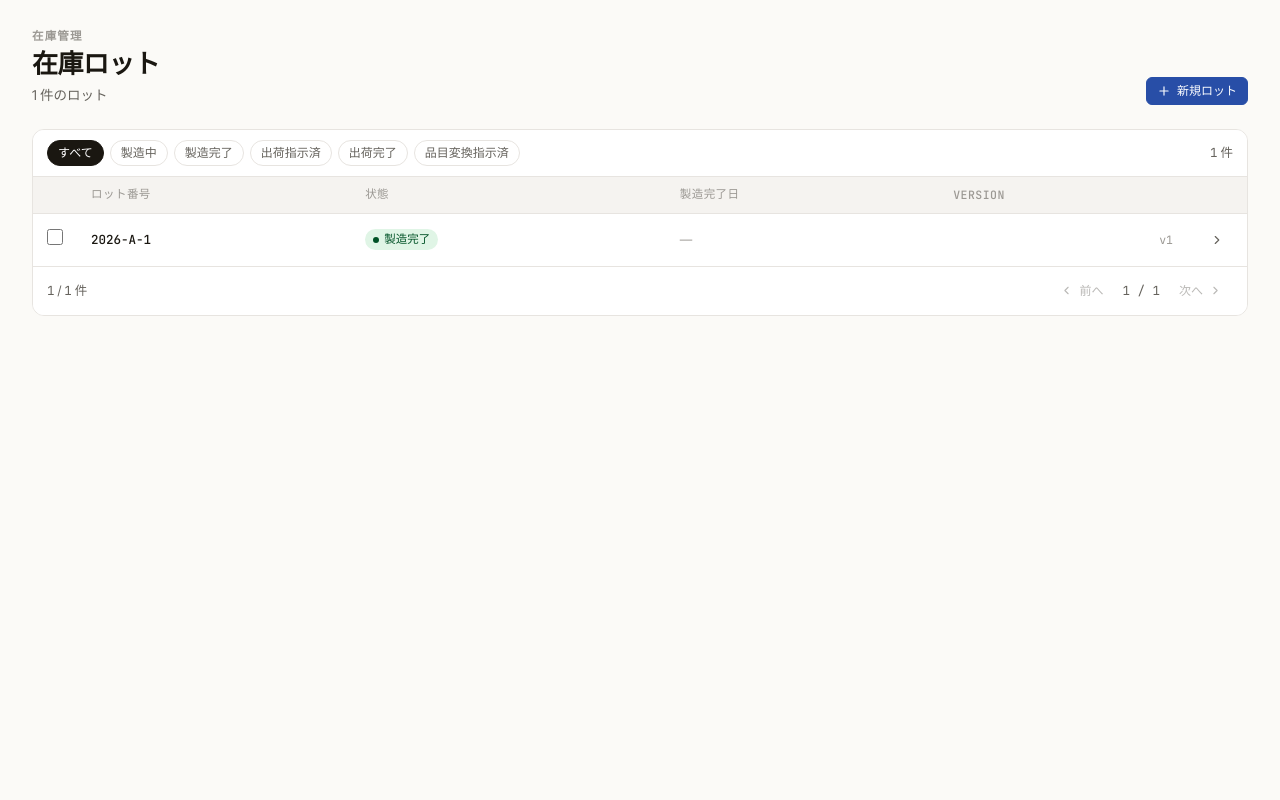
Test: <LotListPage> (FE-PAGE-LOT-LIST-* / FE-REQ-LOT-LIST-*) › FE-PAGE-LOT-LIST-003..004: 行選択 → 「販売案件新規登録」が出て押下で dialog open
Expected: the button "販売案件新規登録" is not shown
// 行選択 → button 出現
Click the checkbox named "ロット 2026-A-1 を選択".
click(55, 237)  # box [47,229,63,245]
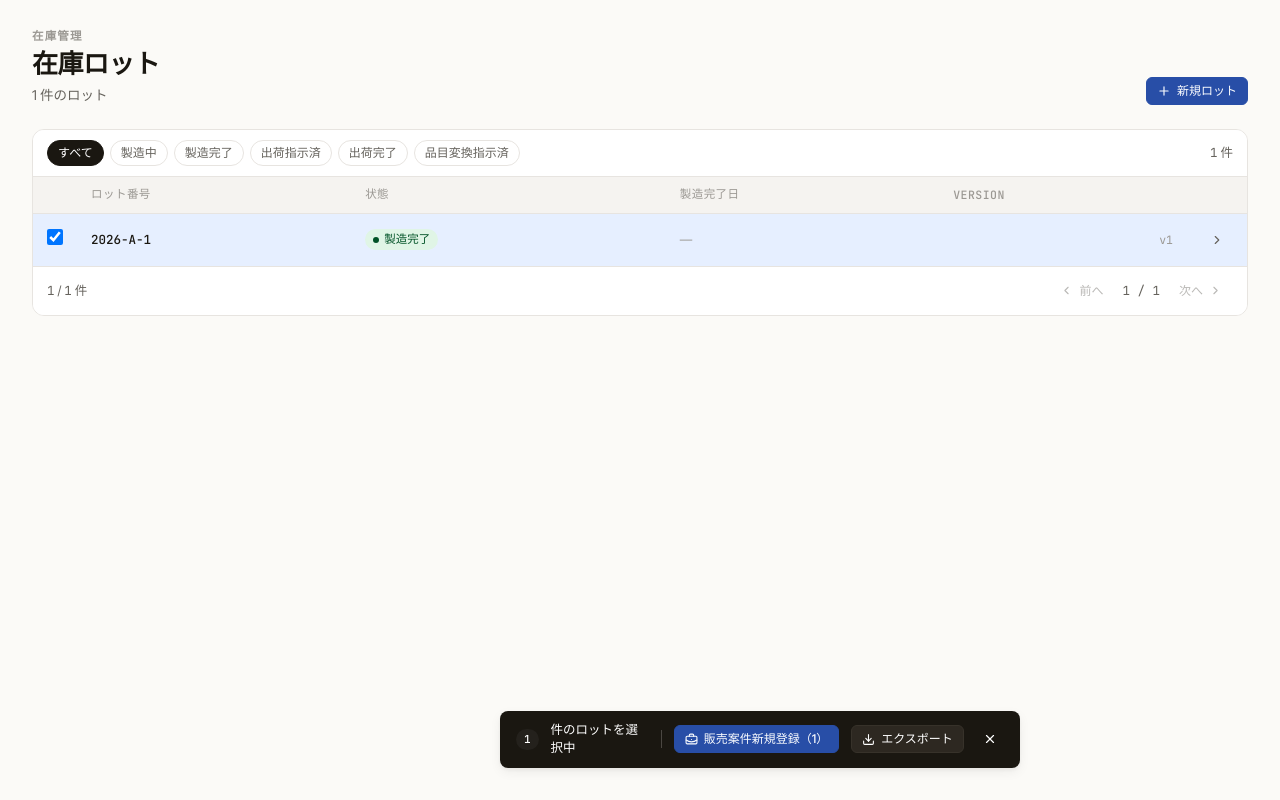
Click the button "販売案件新規登録（1）".
click(756, 739)  # box [674,725,839,753]
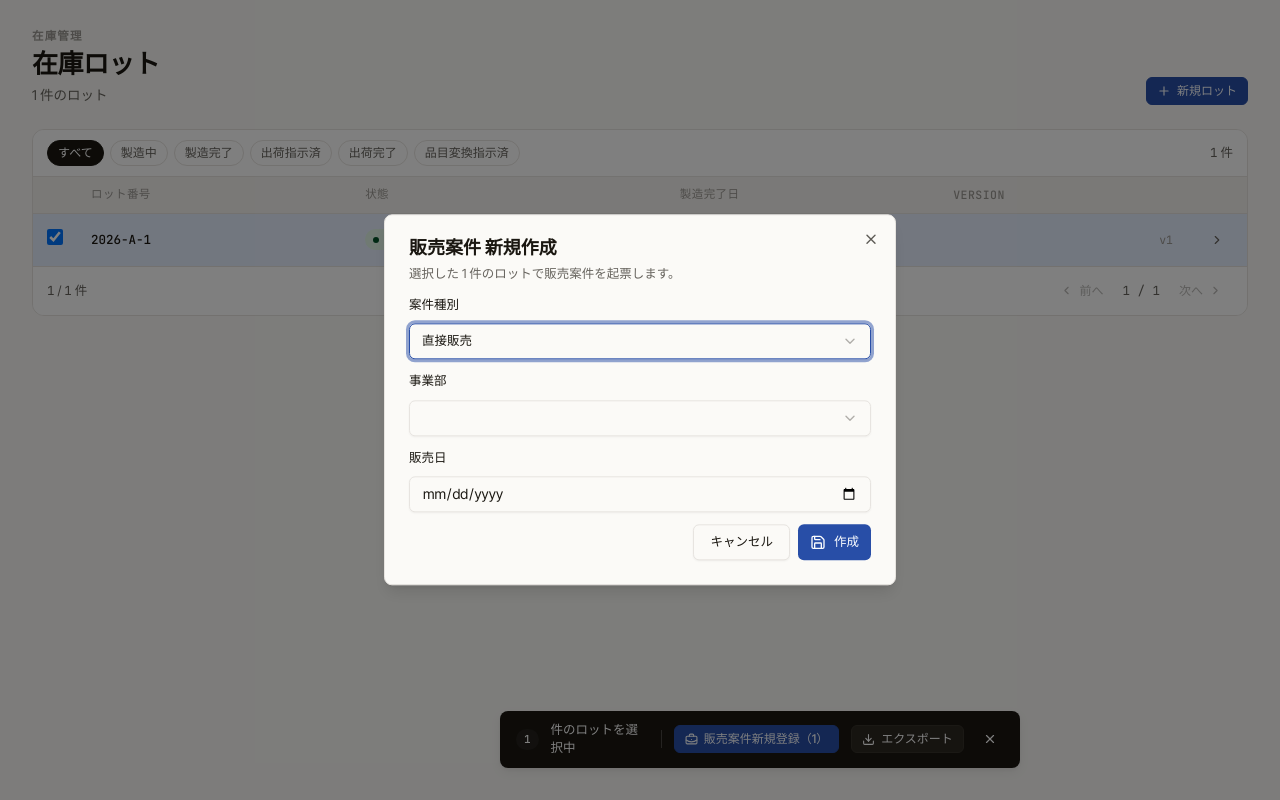
Expected: the dialog is shown, [384,214,896,586]
